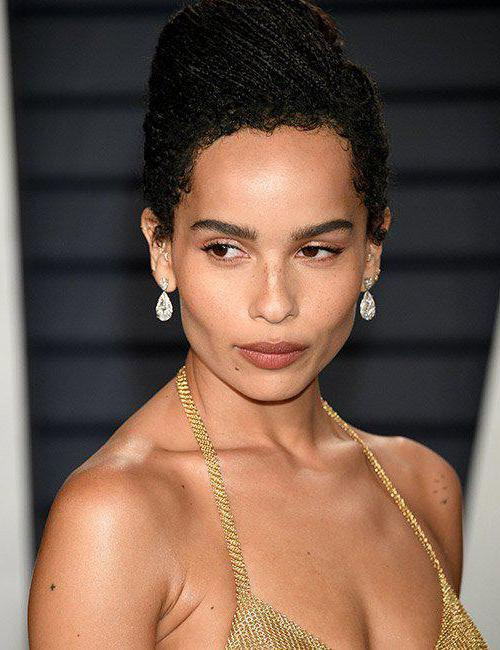Sober: (185, 146, 361, 384)
